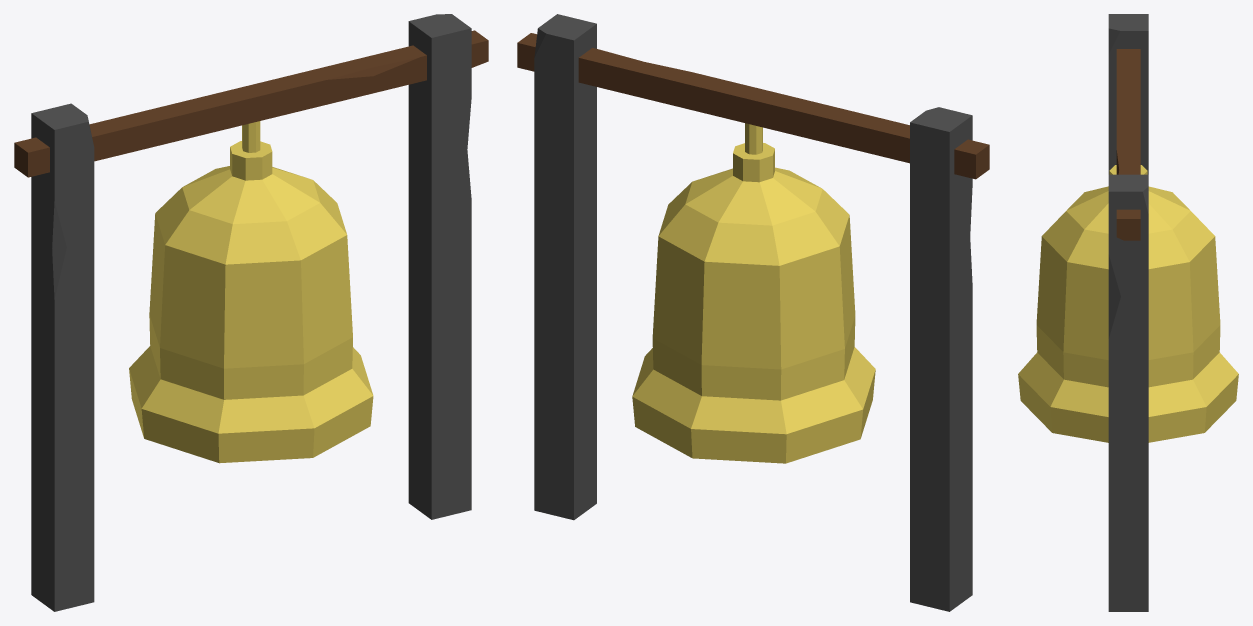
The model's file is bell01.fbx.
The picture shows the model from 3 angles, left to right: view 1: azimuth 30°, elevation 25°; view 2: azimuth 150°, elevation 25°; view 3: azimuth 270°, elevation 25°; orthographic projection. The views are drawn at different scales.
Visible parts, largest first — view 1: bell01; view 2: bell01; view 3: bell01.
Boxes of the visible parts, x1,y1,x2,y2 form: bell01: (14,14,488,611); bell01: (517,14,989,611); bell01: (1018,14,1238,611).
Bounding box in the file's own units: 324 × 324 × 154.
